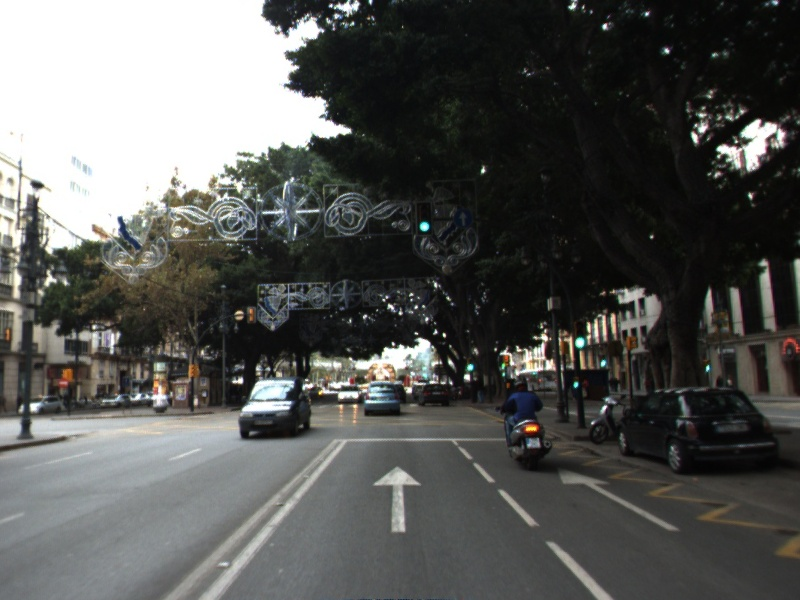STRAIGHT: (554, 465, 687, 534), (369, 462, 426, 536)
